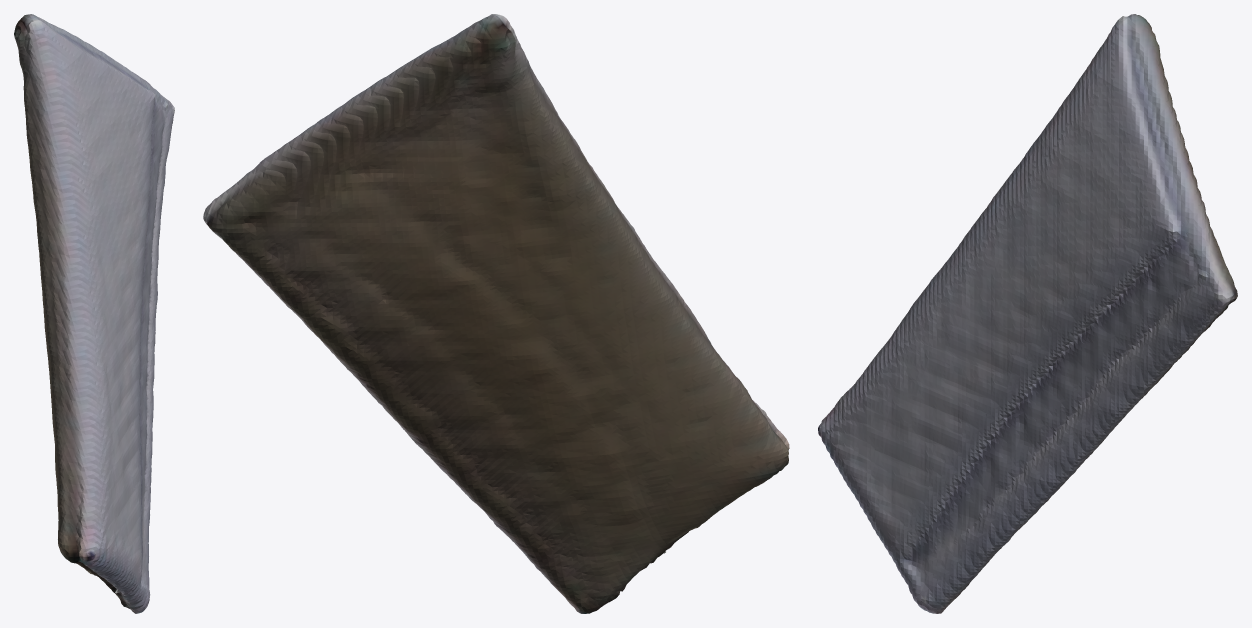
3 renders of one model, left to right at view 1: azimuth 30°, elevation 25°; view 2: azimuth 150°, elevation 25°; view 3: azimuth 270°, elevation 25°, orthographic. The views are drawn at different scales.
Size of the model in its own units: 0.594 by 1.07 by 0.6928.
